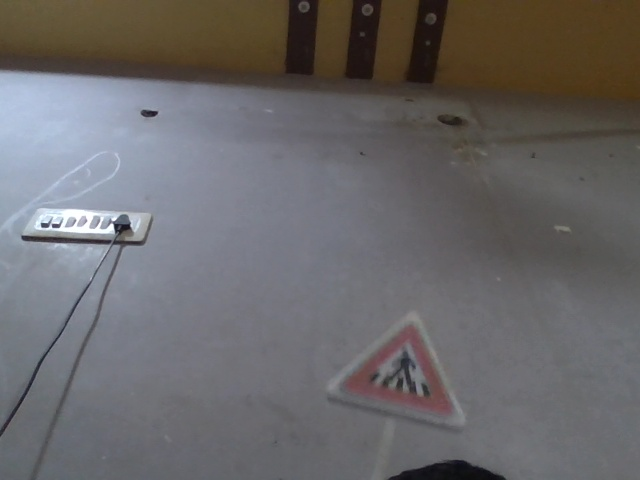crossing: (327, 274, 462, 432)
